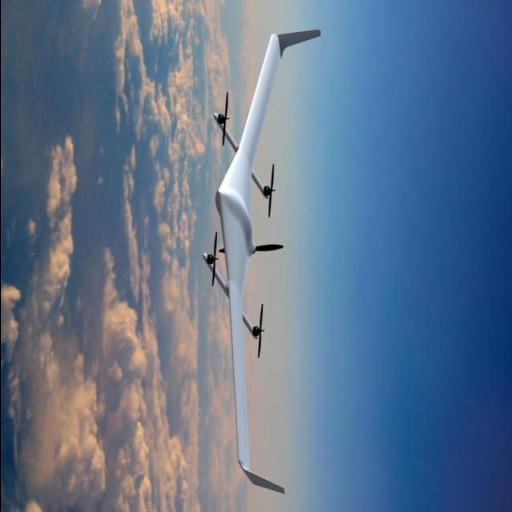uav: (181, 14, 324, 512)
